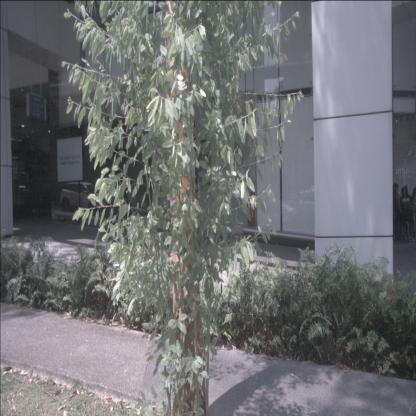human-pedestrian-adult: (399, 185, 414, 239), (389, 183, 402, 237)
